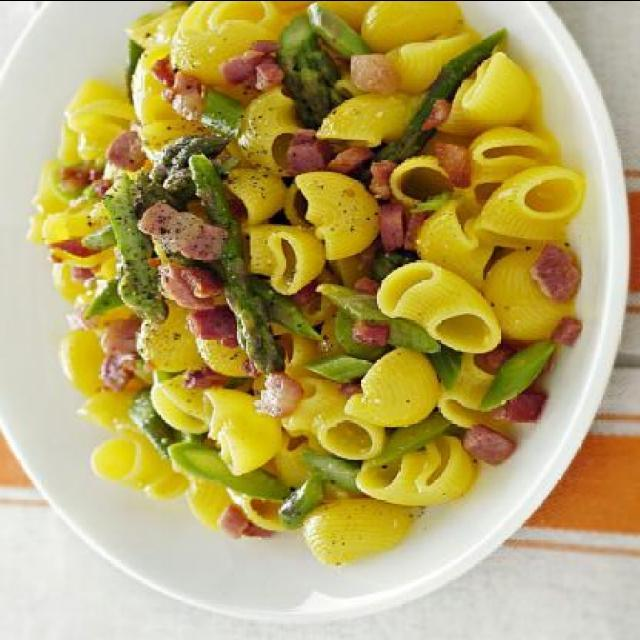Pasta with carbonara sauce: (31, 0, 614, 582)
